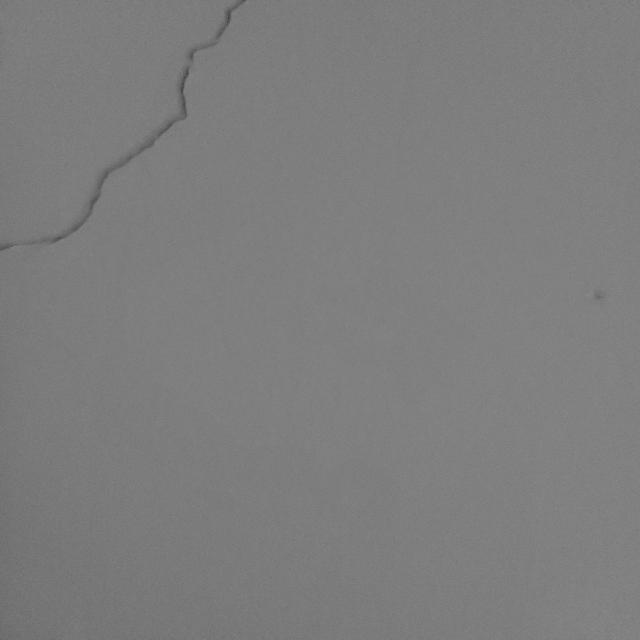rough and patchy surface: (35, 26, 328, 253)
